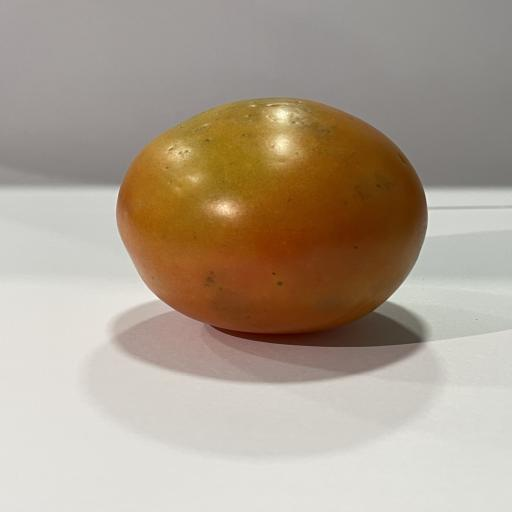unripe: (117, 98, 427, 333), (208, 200, 240, 218)
